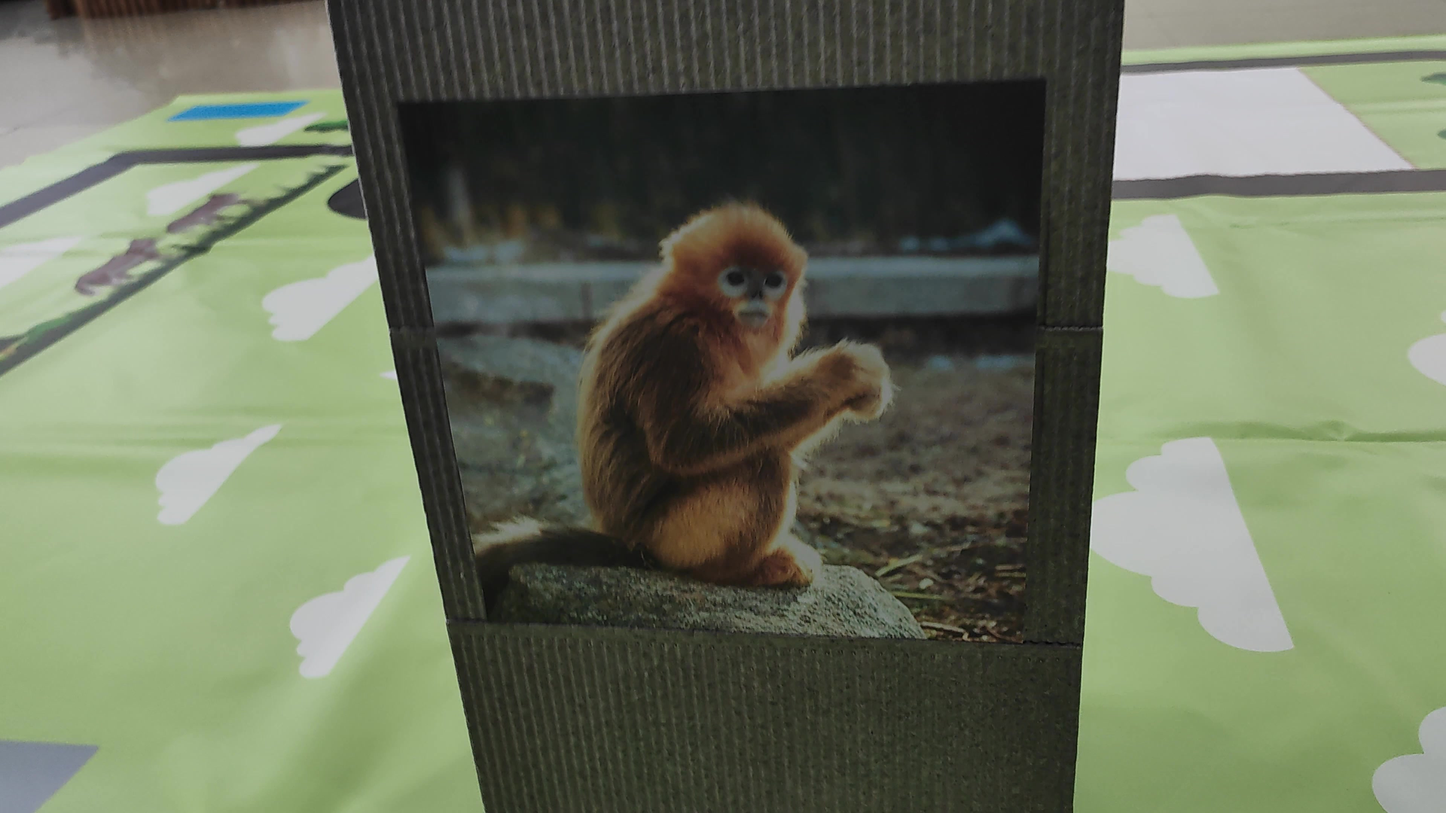monkey: (509, 145, 995, 588)
